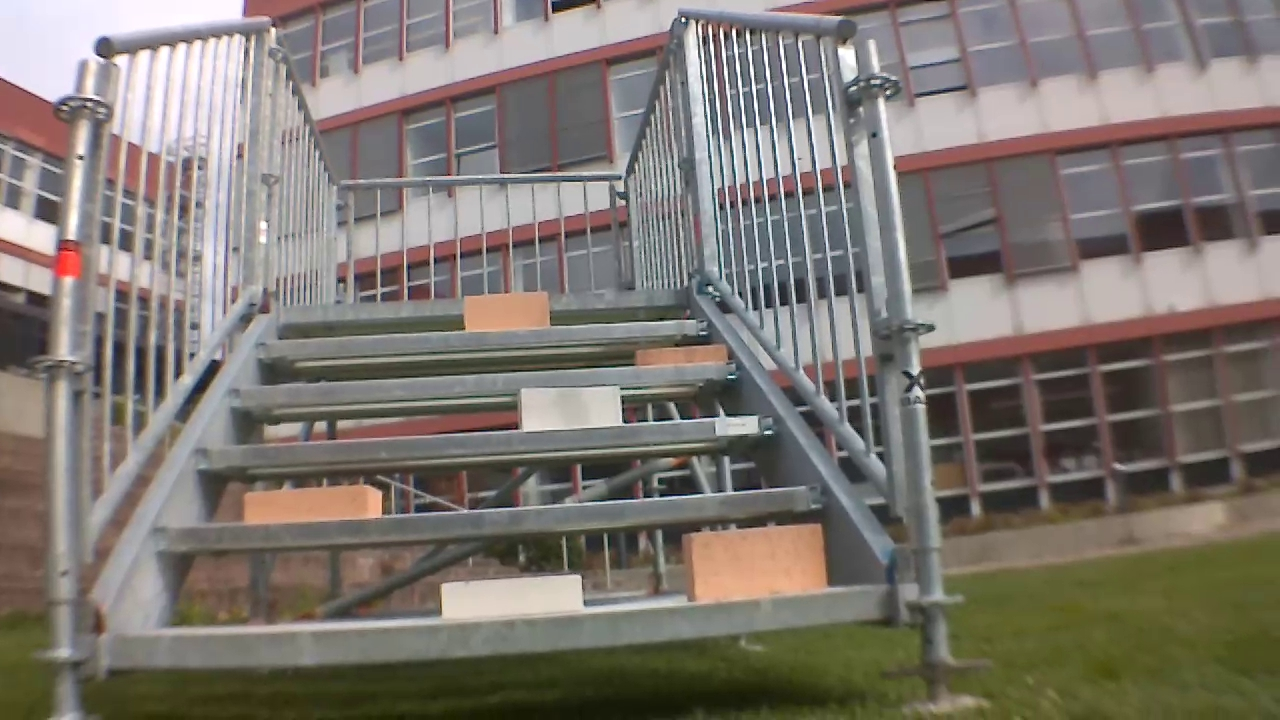brick: (691, 518, 836, 606), (244, 478, 386, 528), (444, 574, 588, 615), (518, 380, 624, 430), (455, 287, 554, 330), (631, 339, 732, 365)
edge: (109, 582, 908, 677), (157, 488, 826, 558), (195, 416, 772, 468), (230, 367, 747, 406), (255, 318, 715, 358), (283, 288, 690, 318)
stairs: (67, 16, 912, 697)
steps: (91, 287, 896, 681)
